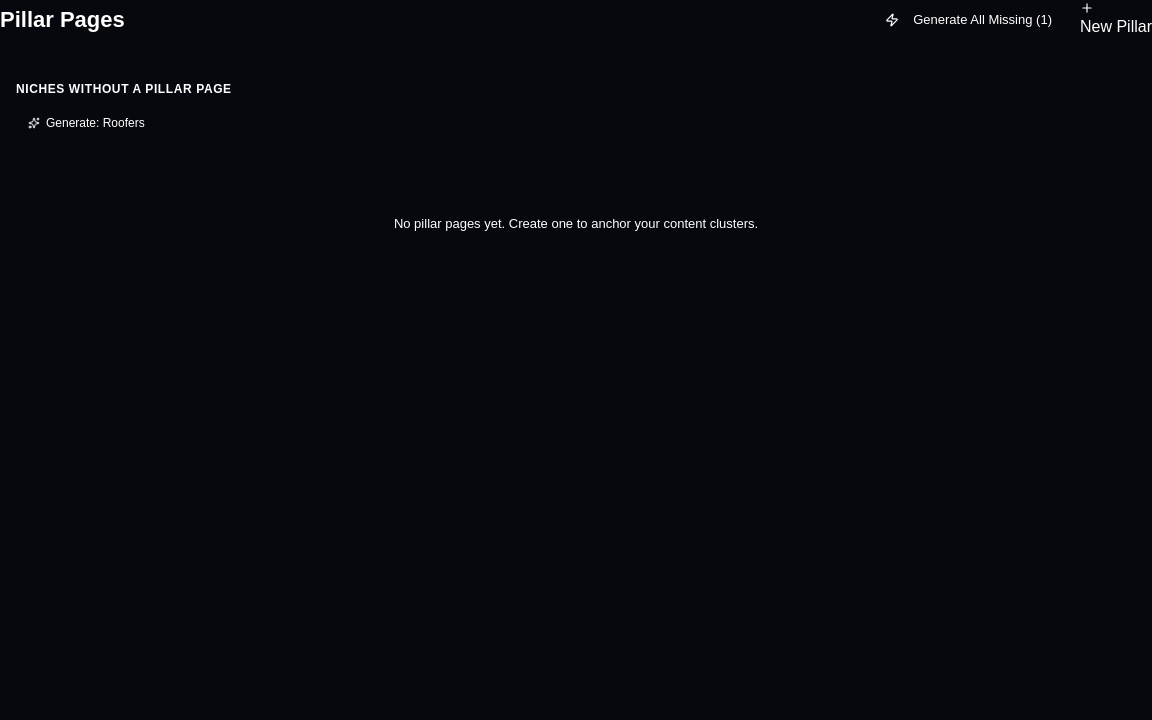
it: PillarPagesManager › confirms before a niche chip generates a draft guide
This screenshot has width=1152, height=720.
Later steps or results of the test are not shown.
Click the button "Generate: Roofers".
click(86, 122)  # box [16, 108, 157, 138]
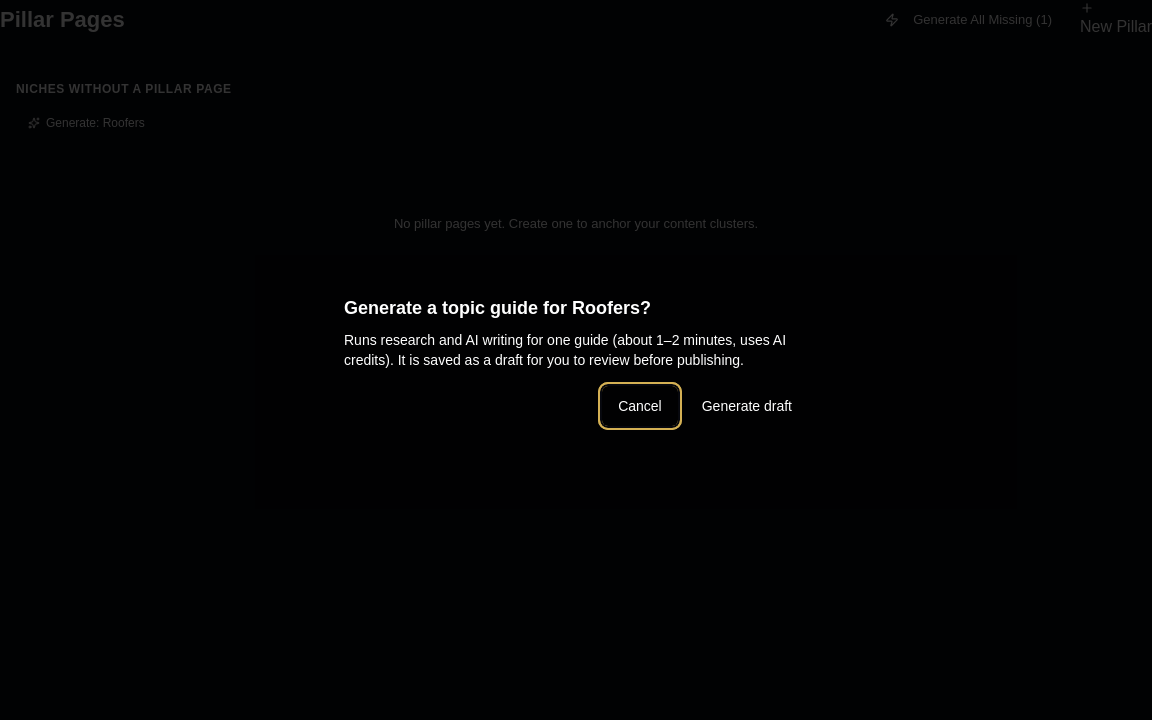
Result: the heading "Generate a topic guide for Roofers?" is shown at [344, 298, 651, 318]
